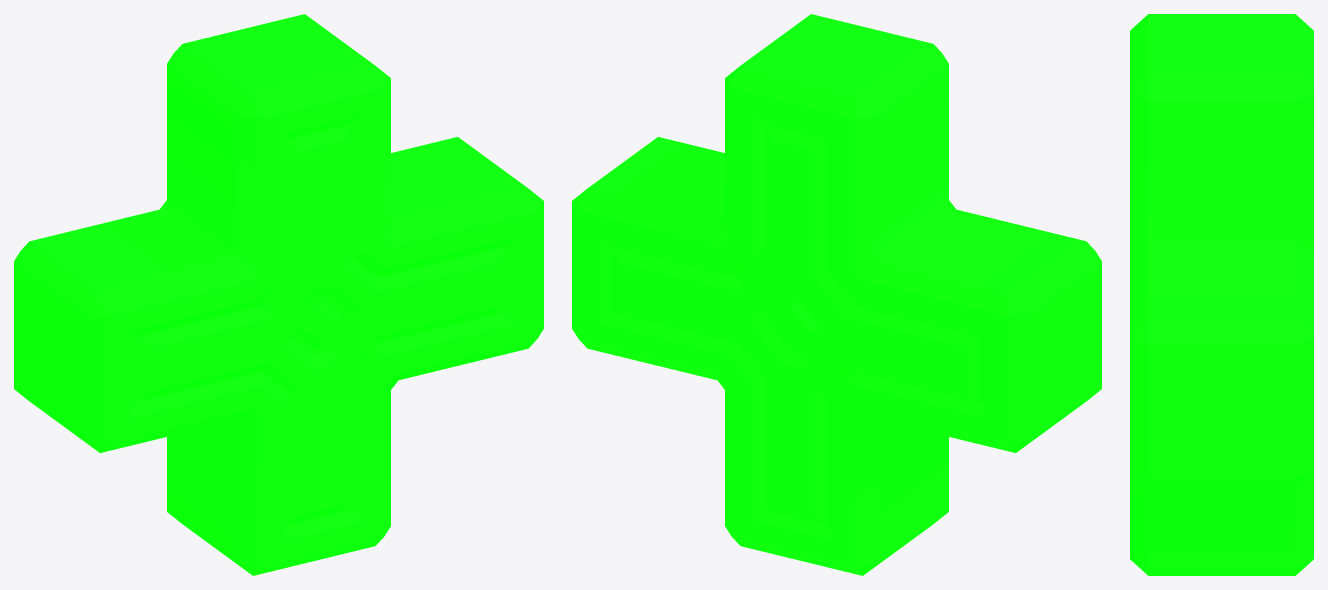
File: Healing ItemX.fbx
3 renders of one model, left to right at view 1: azimuth 30°, elevation 25°; view 2: azimuth 150°, elevation 25°; view 3: azimuth 270°, elevation 25°, orthographic. The views are drawn at different scales.
Parts seen in each view (by area): view 1: Box001; view 2: Box001; view 3: Box001.
Part boxes in pixels (bbox=[...]): Box001: bbox=[14, 14, 543, 575]; Box001: bbox=[572, 14, 1101, 575]; Box001: bbox=[1130, 14, 1313, 575].
Size of the model in its own units: 15 by 15 by 5.
